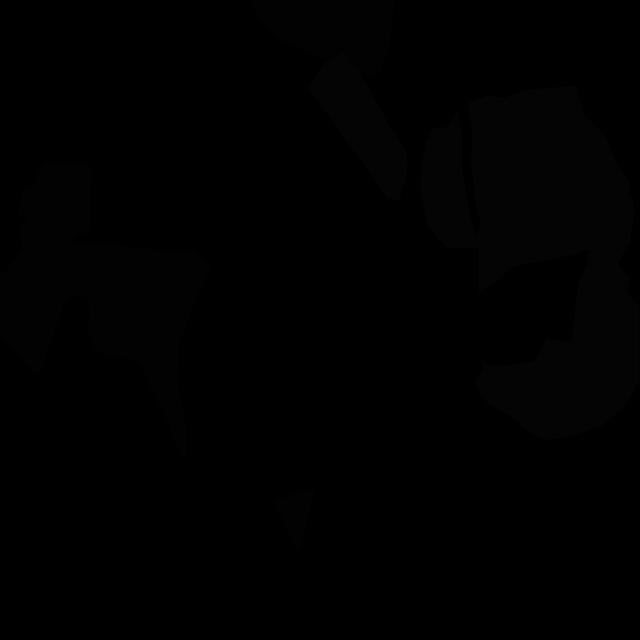cardboard: (0, 162, 210, 460), (251, 0, 395, 76), (273, 489, 315, 550)
soft_plastic: (420, 86, 640, 439), (308, 51, 408, 201)
